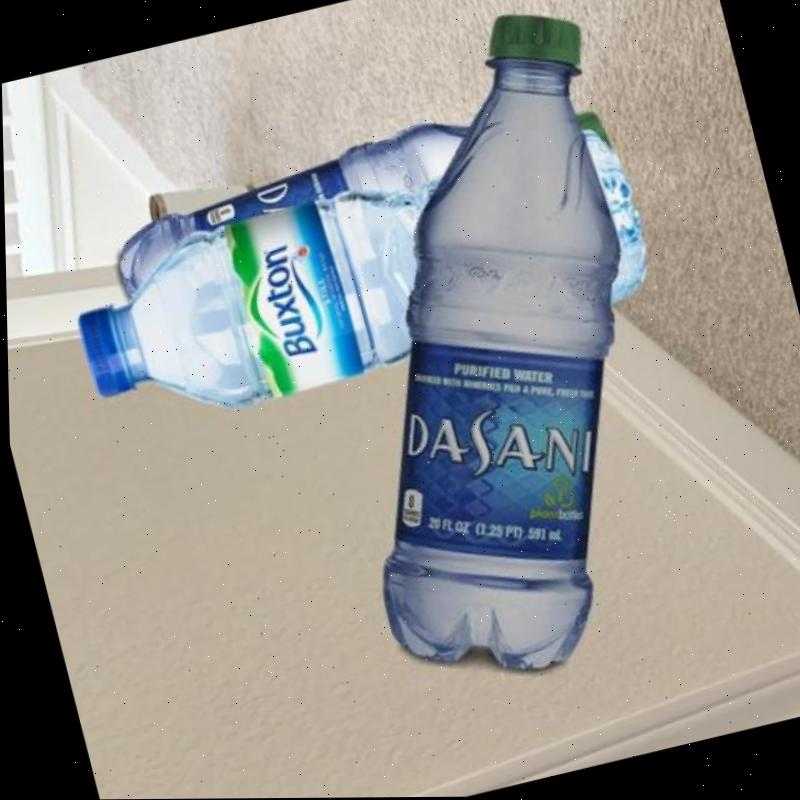botella: (251, 0, 729, 697), (54, 117, 656, 443), (93, 84, 624, 311)
